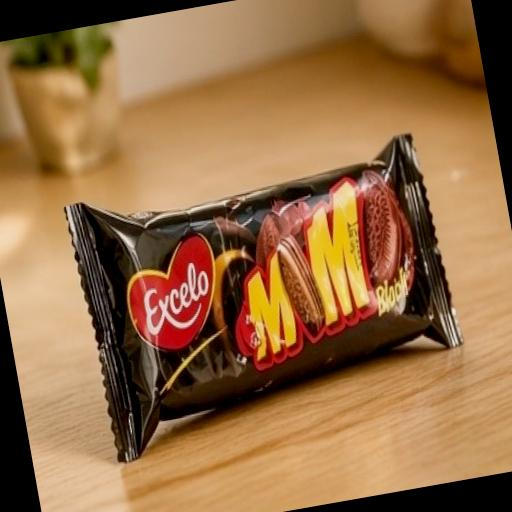MOMO: (27, 62, 496, 484)
